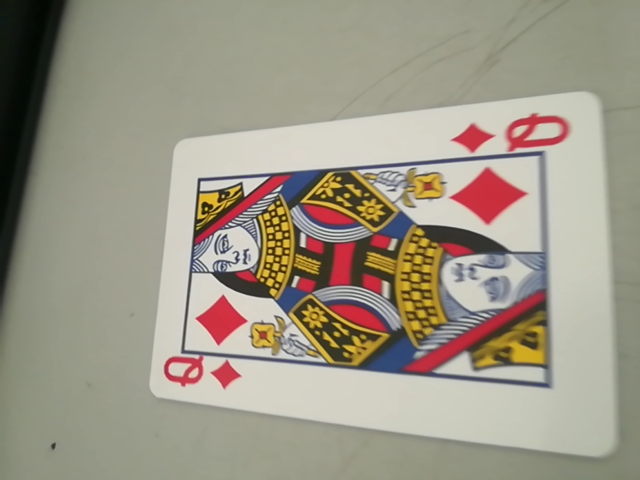fk q: (455, 109, 580, 159), (158, 350, 242, 399)
